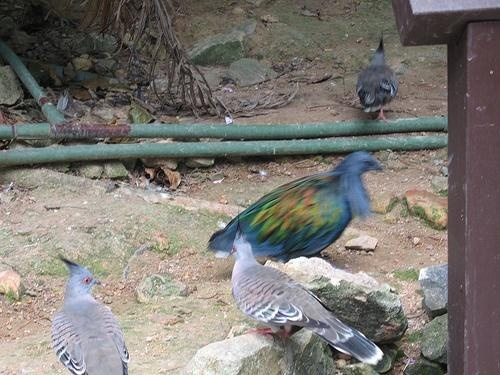bird: (218, 213, 397, 375), (206, 151, 382, 265), (51, 254, 133, 375), (353, 32, 403, 123)
